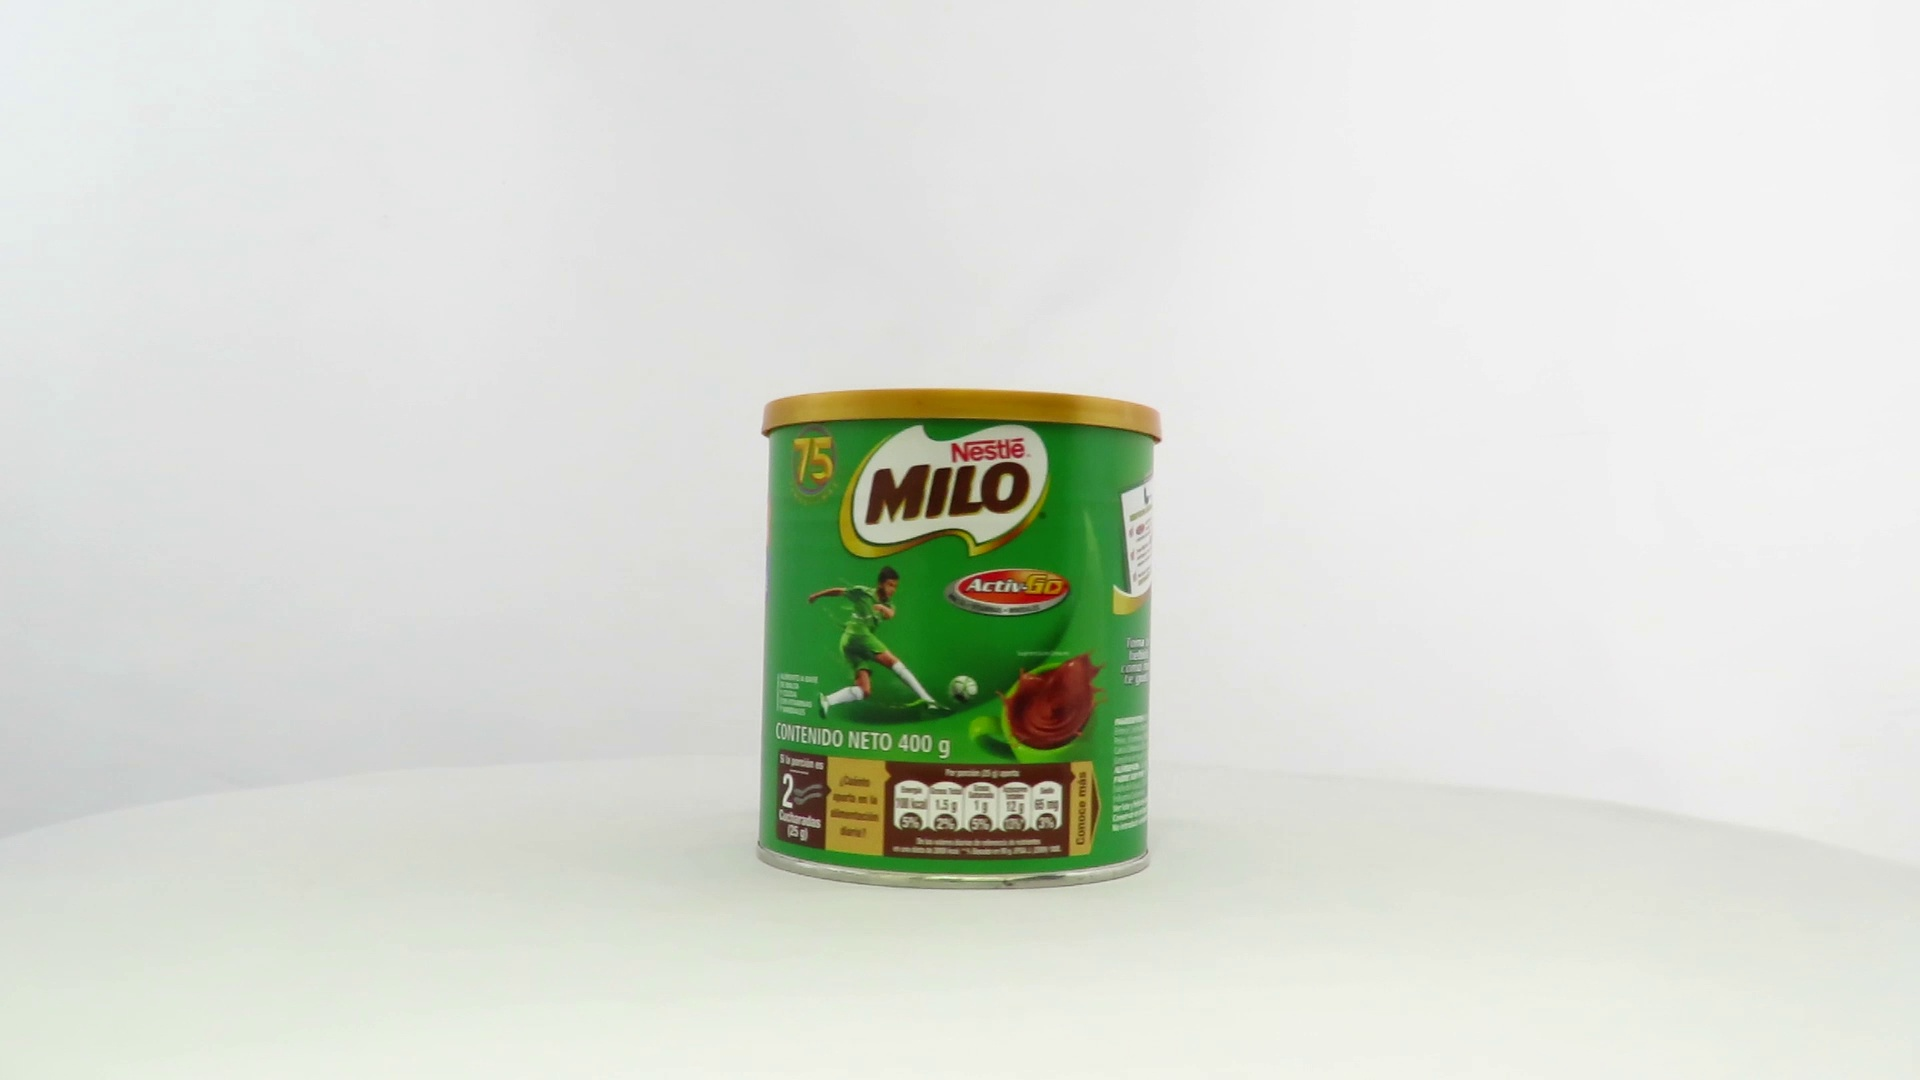COL0170203LAT40000: (750, 382, 1168, 895)
